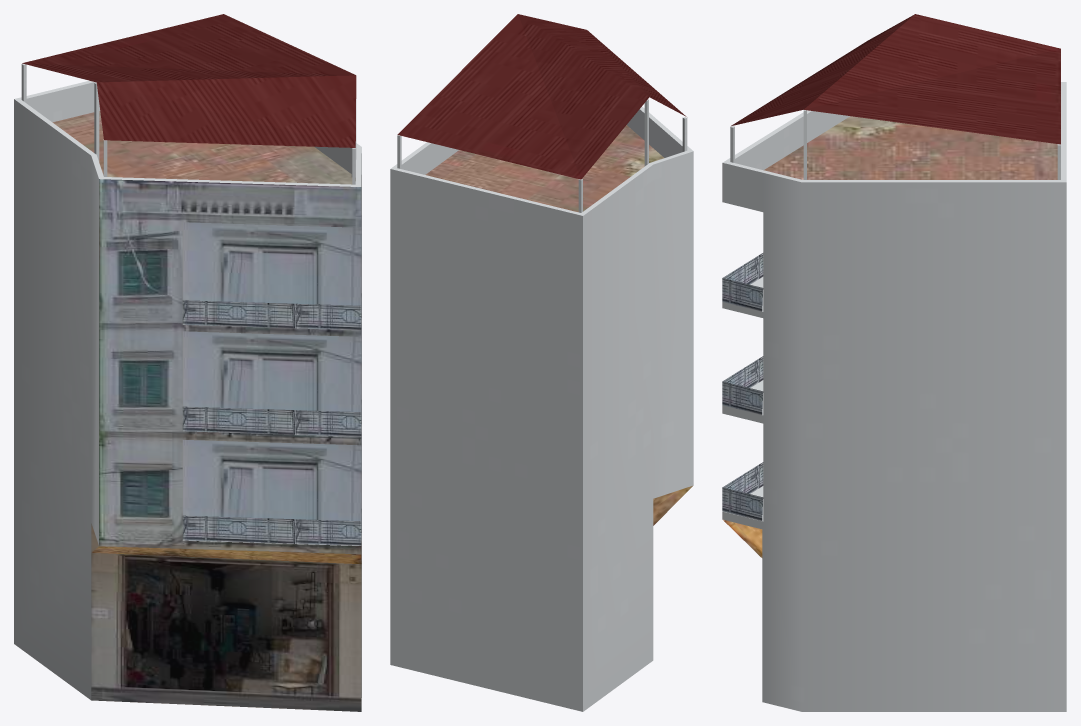
3 views of the same model, side by side, from view 1: azimuth 30°, elevation 25°; view 2: azimuth 150°, elevation 25°; view 3: azimuth 270°, elevation 25° (orthographic). The views are drawn at different scales.
Parts seen in each view (by area): view 1: HN947___Tuyen_Tho_Phu; view 2: HN947___Tuyen_Tho_Phu; view 3: HN947___Tuyen_Tho_Phu.
Part boxes in pixels (x1=…): HN947___Tuyen_Tho_Phu: x1=14, y1=14, x2=361, y2=711; HN947___Tuyen_Tho_Phu: x1=390, y1=14, x2=693, y2=711; HN947___Tuyen_Tho_Phu: x1=722, y1=14, x2=1066, y2=711.
Bounding box in the file's own units: 4.5 × 11.54 × 6.
1 material, 1 textured.
